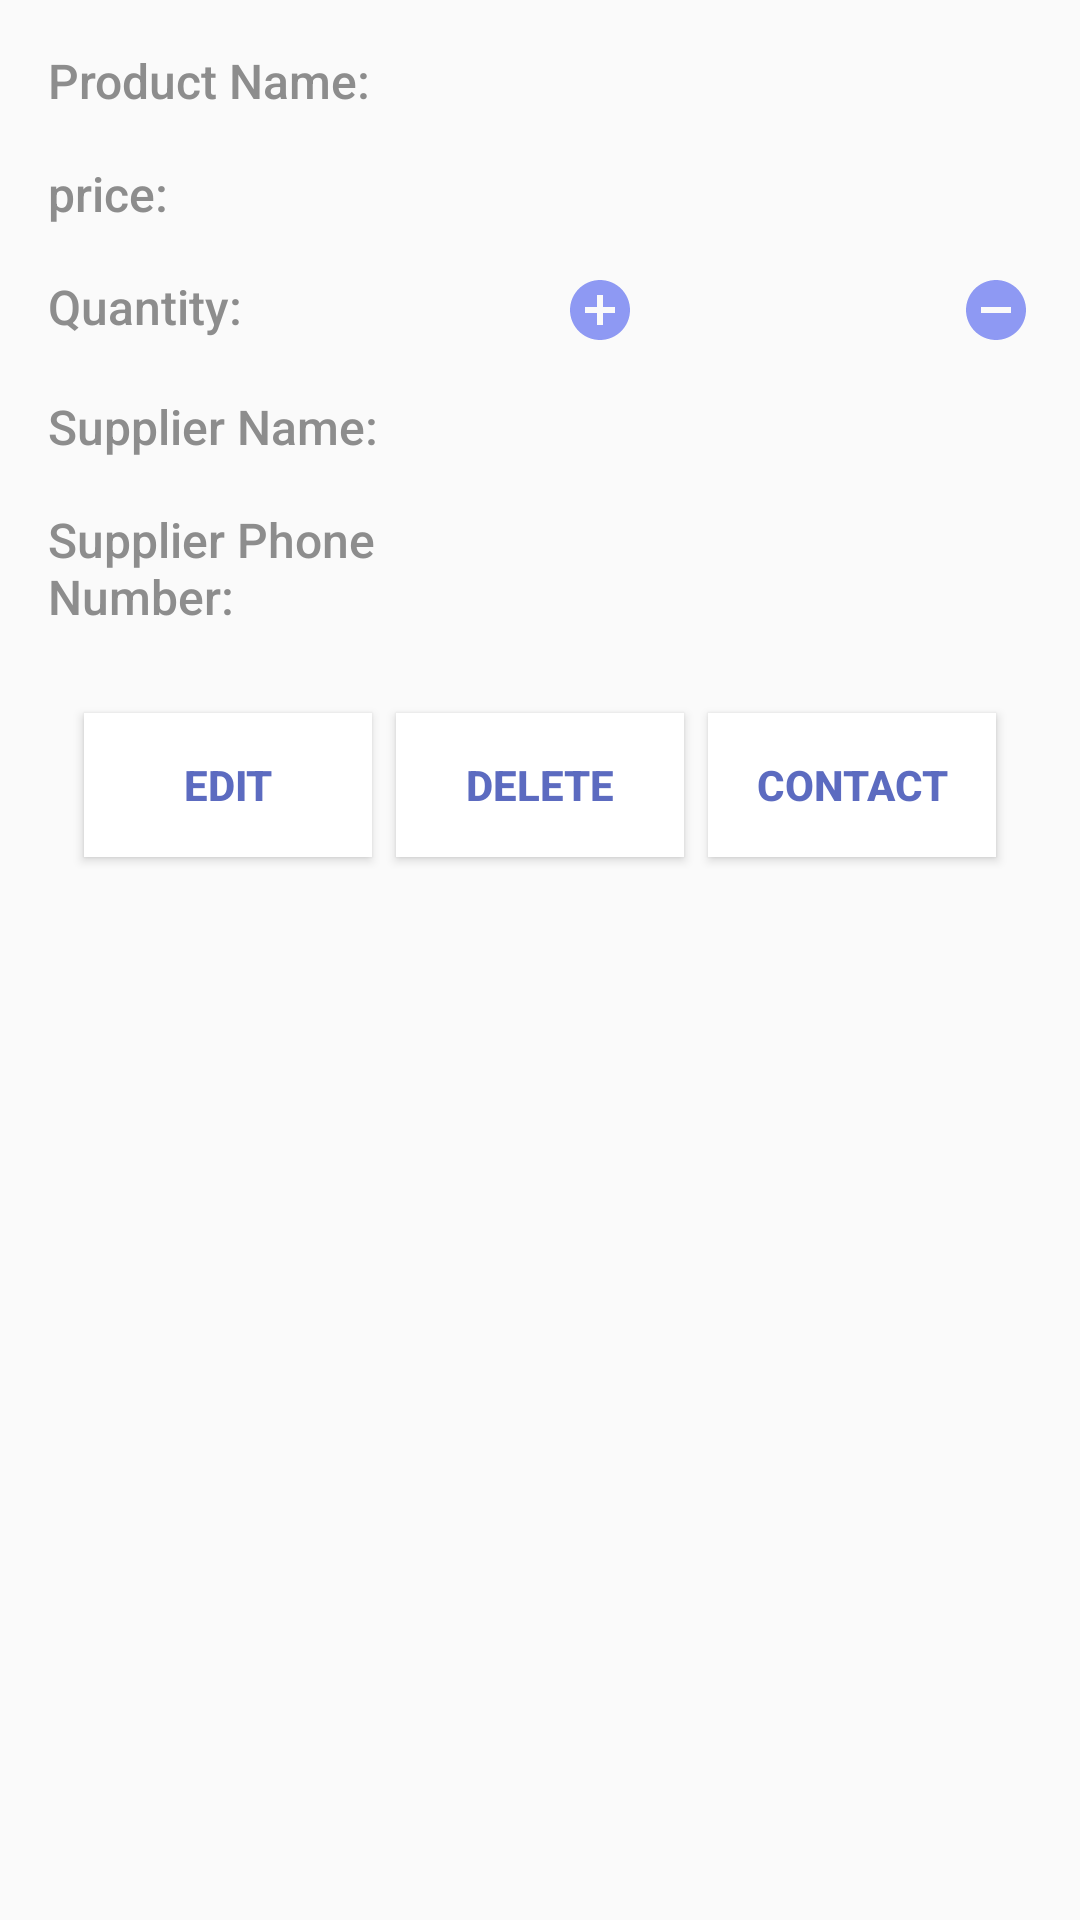

Icons on this 1080x1920 Android screen, each with its box as [x1,y1,x2,y2]:
add circle: [570,280,630,340]
remove circle: [966,280,1026,340]
